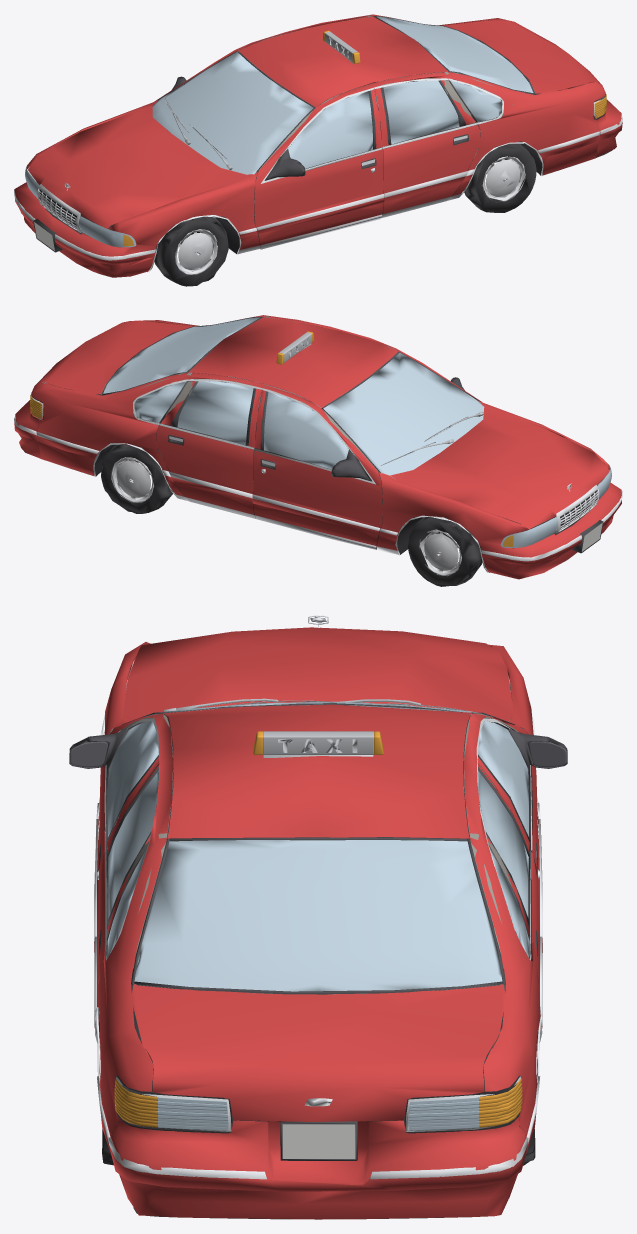
File: archmodels55-06.glb
The picture shows the model from 3 angles, top to bottom: view 1: azimuth 30°, elevation 25°; view 2: azimuth 150°, elevation 25°; view 3: azimuth 270°, elevation 25°; orthographic projection. The views are drawn at different scales.
Visible parts, largest first — view 1: Archmodels55_06_carpaint, Archmodels55_06_glass, Archmodels55_06_chrome2, Archmodels55_06_tires, Archmodels55_06_black_plastic, Archmodels55_06_rims, Archmodels55_06_black, Archmodels55_06_headlight_glass, Archmodels55_06_interior2, Archmodels55_06_blinkers, Archmodels55_06_taxi_stand; view 2: Archmodels55_06_carpaint, Archmodels55_06_glass, Archmodels55_06_chrome2, Archmodels55_06_tires, Archmodels55_06_black_plastic, Archmodels55_06_rims, Archmodels55_06_black, Archmodels55_06_headlight_glass, Archmodels55_06_interior2, Archmodels55_06_blinkers, Archmodels55_06_taxi_stand; view 3: Archmodels55_06_carpaint, Archmodels55_06_glass, Archmodels55_06_black_plastic, Archmodels55_06_chrome2, Archmodels55_06_glass_red, Archmodels55_06_blinkers, Archmodels55_06_register_plate, Archmodels55_06_black, Archmodels55_06_taxi_stand, Archmodels55_06_mirrors, Archmodels55_06_interior2, Archmodels55_06_wipes.
Part boxes in pixels (left/top/right/bottom): Archmodels55_06_carpaint: left=14, top=14, right=622, bottom=277; Archmodels55_06_glass: left=152, top=17, right=533, bottom=174; Archmodels55_06_chrome2: left=14, top=55, right=622, bottom=272; Archmodels55_06_tires: left=154, top=142, right=536, bottom=286; Archmodels55_06_black_plastic: left=33, top=16, right=534, bottom=252; Archmodels55_06_rims: left=175, top=156, right=525, bottom=274; Archmodels55_06_black: left=24, top=16, right=612, bottom=271; Archmodels55_06_headlight_glass: left=25, top=166, right=136, bottom=247; Archmodels55_06_interior2: left=237, top=15, right=534, bottom=215; Archmodels55_06_blinkers: left=123, top=30, right=606, bottom=246; Archmodels55_06_taxi_stand: left=325, top=31, right=357, bottom=61; Archmodels55_06_carpaint: left=14, top=315, right=621, bottom=579; Archmodels55_06_glass: left=103, top=317, right=484, bottom=478; Archmodels55_06_chrome2: left=14, top=343, right=622, bottom=572; Archmodels55_06_tires: left=101, top=444, right=482, bottom=586; Archmodels55_06_black_plastic: left=102, top=316, right=603, bottom=553; Archmodels55_06_rims: left=111, top=457, right=461, bottom=576; Archmodels55_06_black: left=31, top=317, right=597, bottom=573; Archmodels55_06_headlight_glass: left=500, top=467, right=611, bottom=547; Archmodels55_06_interior2: left=102, top=316, right=396, bottom=538; Archmodels55_06_blinkers: left=30, top=331, right=513, bottom=546; Archmodels55_06_taxi_stand: left=279, top=332, right=311, bottom=362; Archmodels55_06_carpaint: left=94, top=627, right=542, bottom=1219; Archmodels55_06_glass: left=107, top=702, right=529, bottom=991; Archmodels55_06_black_plastic: left=69, top=703, right=567, bottom=1160; Archmodels55_06_chrome2: left=94, top=712, right=542, bottom=1179; Archmodels55_06_glass_red: left=158, top=1097, right=479, bottom=1130; Archmodels55_06_blinkers: left=114, top=731, right=522, bottom=1127; Archmodels55_06_register_plate: left=282, top=1124, right=355, bottom=1158; Archmodels55_06_black: left=98, top=714, right=539, bottom=1219; Archmodels55_06_taxi_stand: left=263, top=731, right=373, bottom=754; Archmodels55_06_mirrors: left=70, top=741, right=566, bottom=767; Archmodels55_06_interior2: left=109, top=713, right=525, bottom=1010; Archmodels55_06_wipes: left=164, top=698, right=472, bottom=711.
Size of the model in its own units: 5.47 by 1.54 by 2.17.
